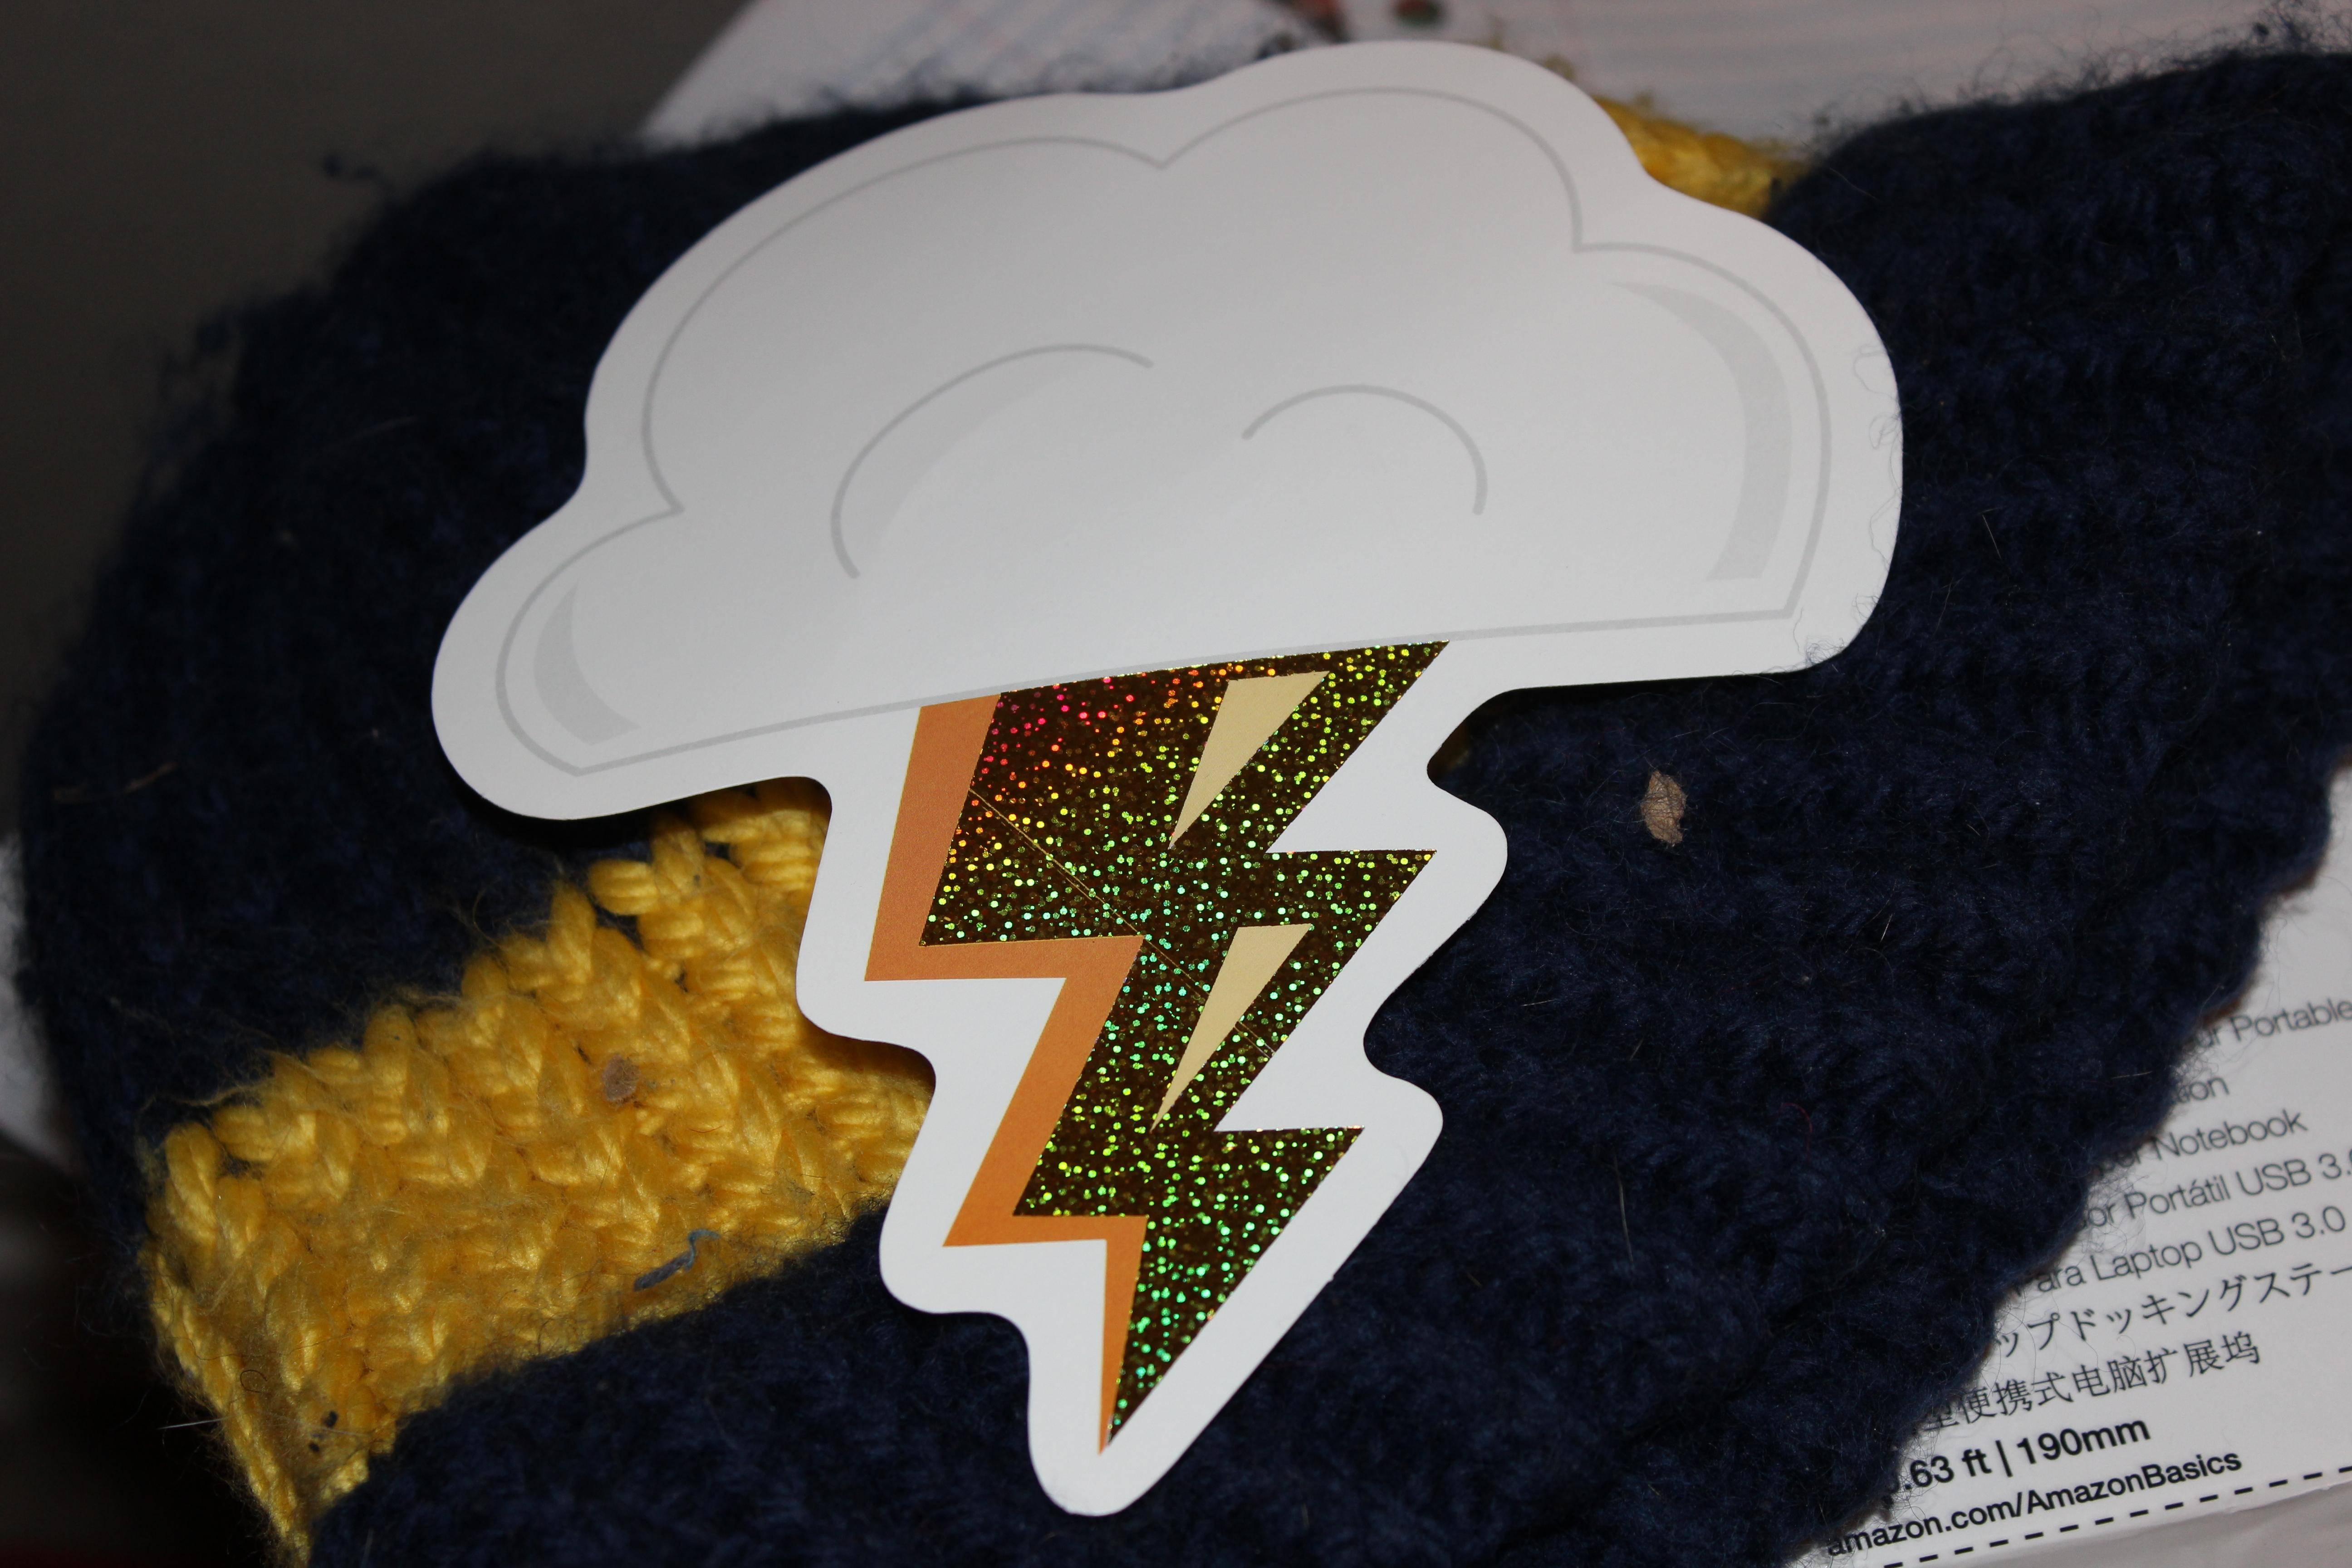cloudSign: (402, 26, 1948, 1526)
